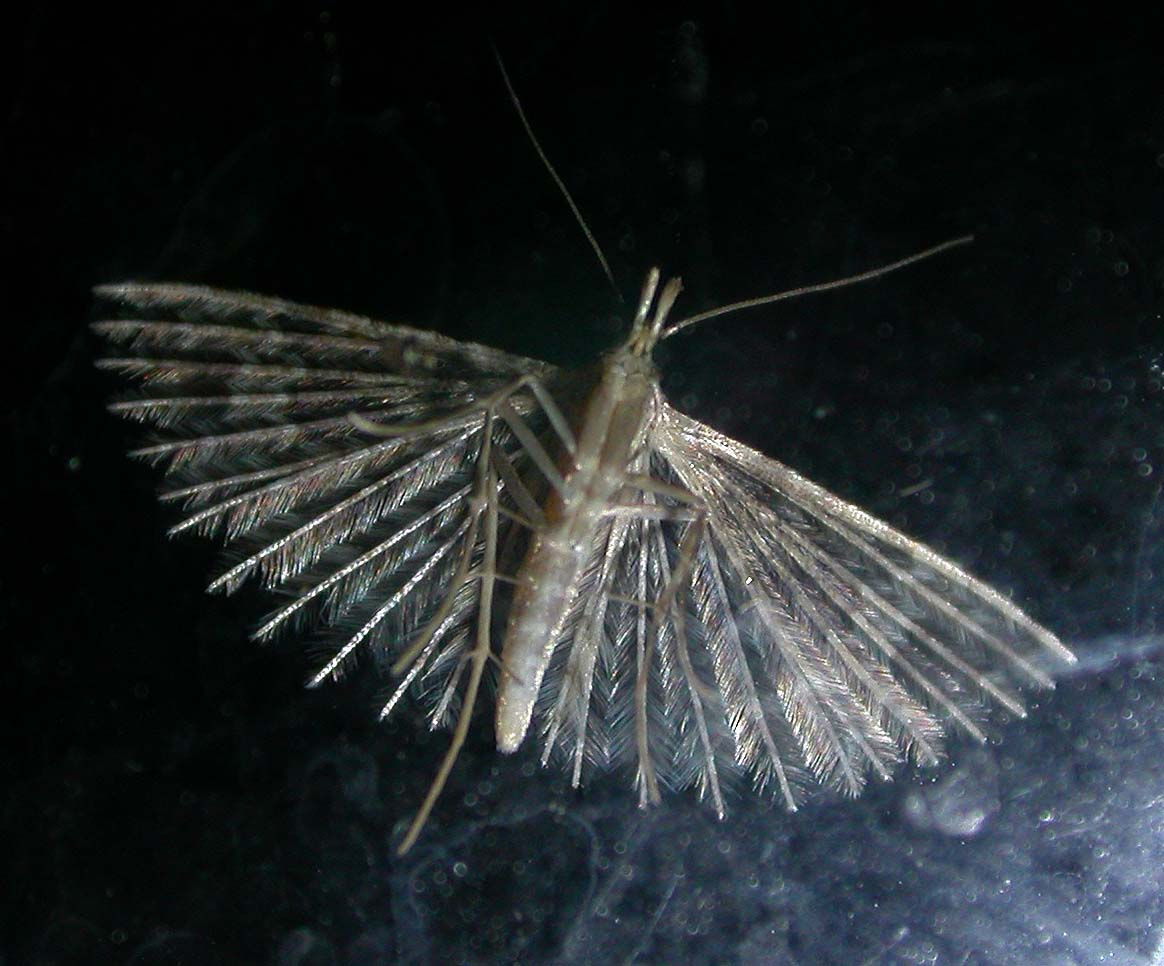Alucitidae: (77, 19, 1077, 872)
moth: (75, 17, 1075, 870)
